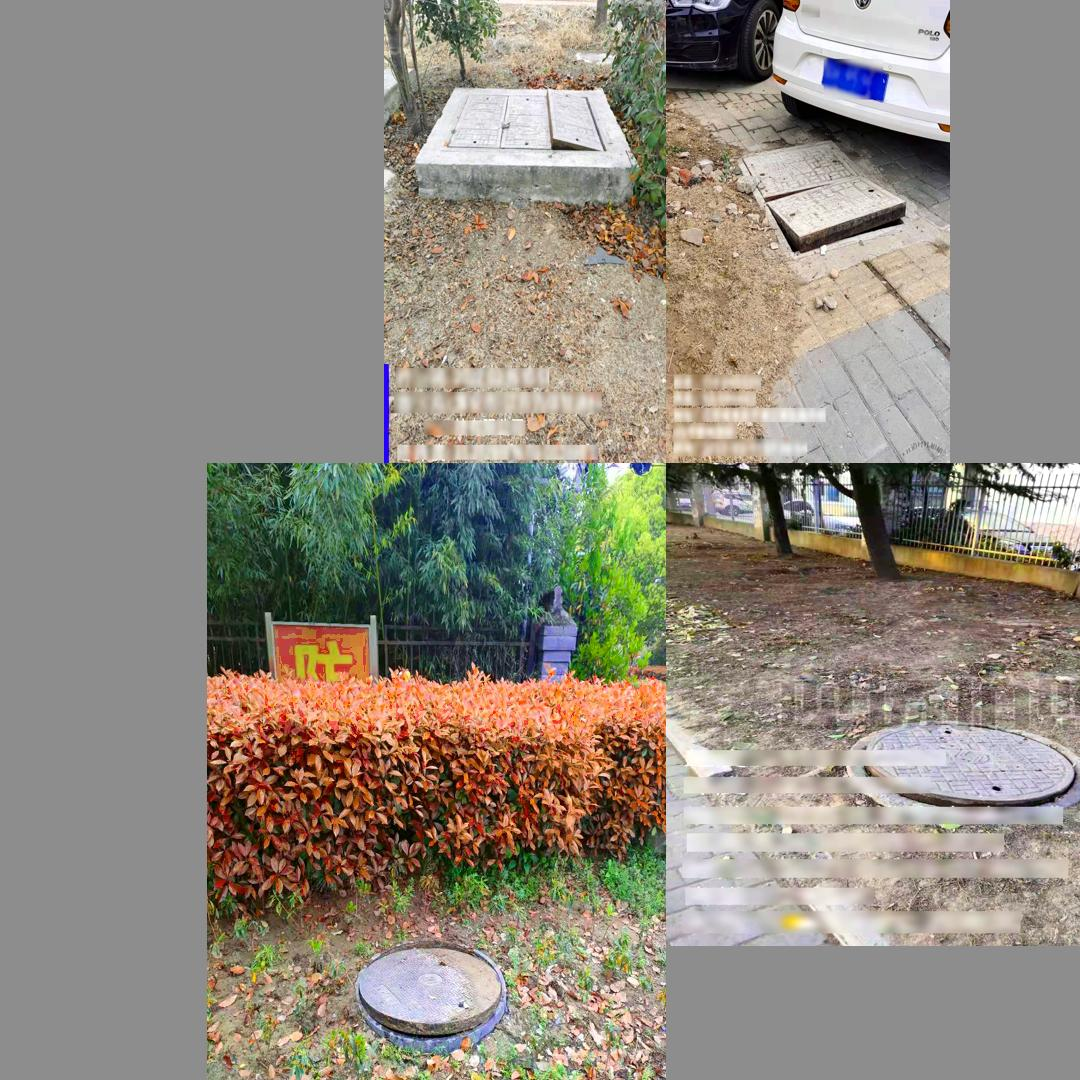uncovered: (848, 720, 1080, 823), (747, 151, 917, 275), (354, 921, 511, 1037), (444, 77, 613, 160)
